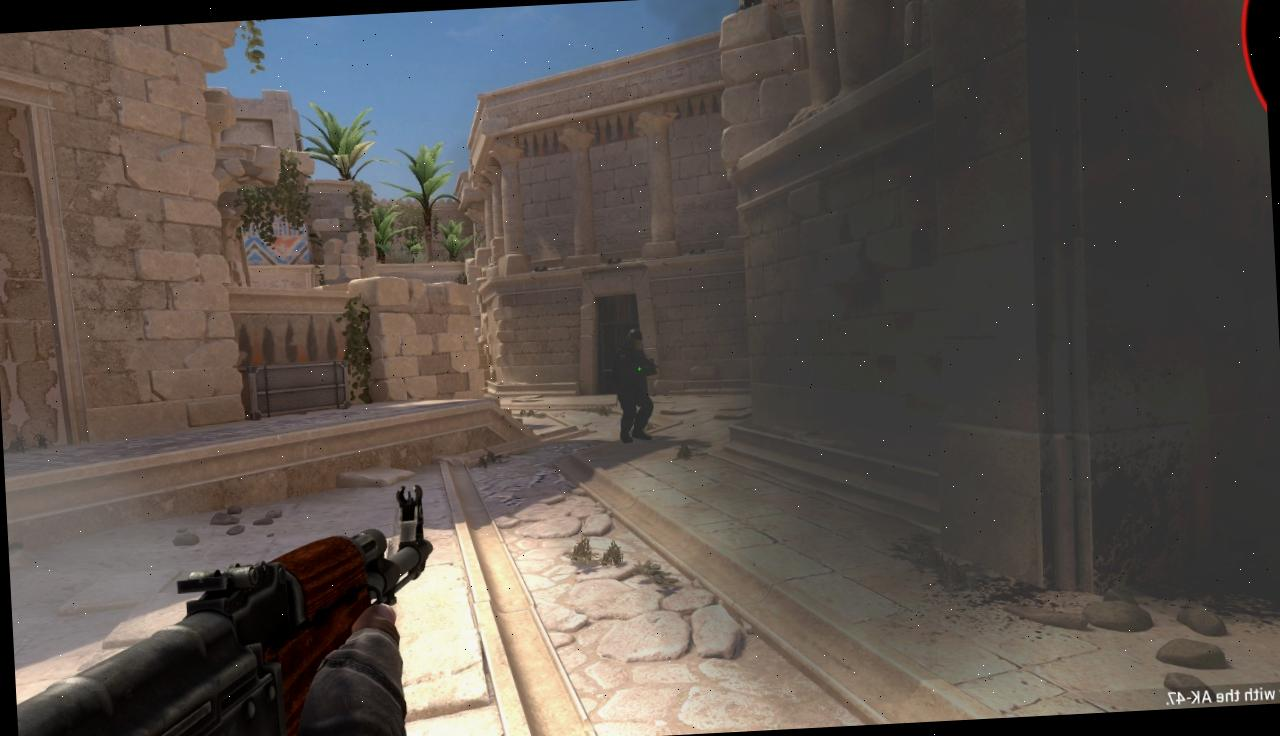ct: (615, 328, 652, 442)
cthead: (626, 330, 644, 348)
rifle: (6, 481, 443, 736)
